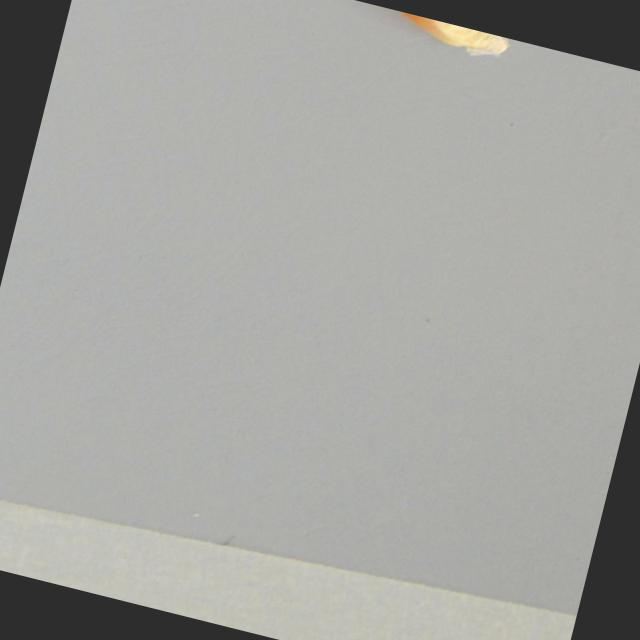entero: (368, 5, 517, 81)
